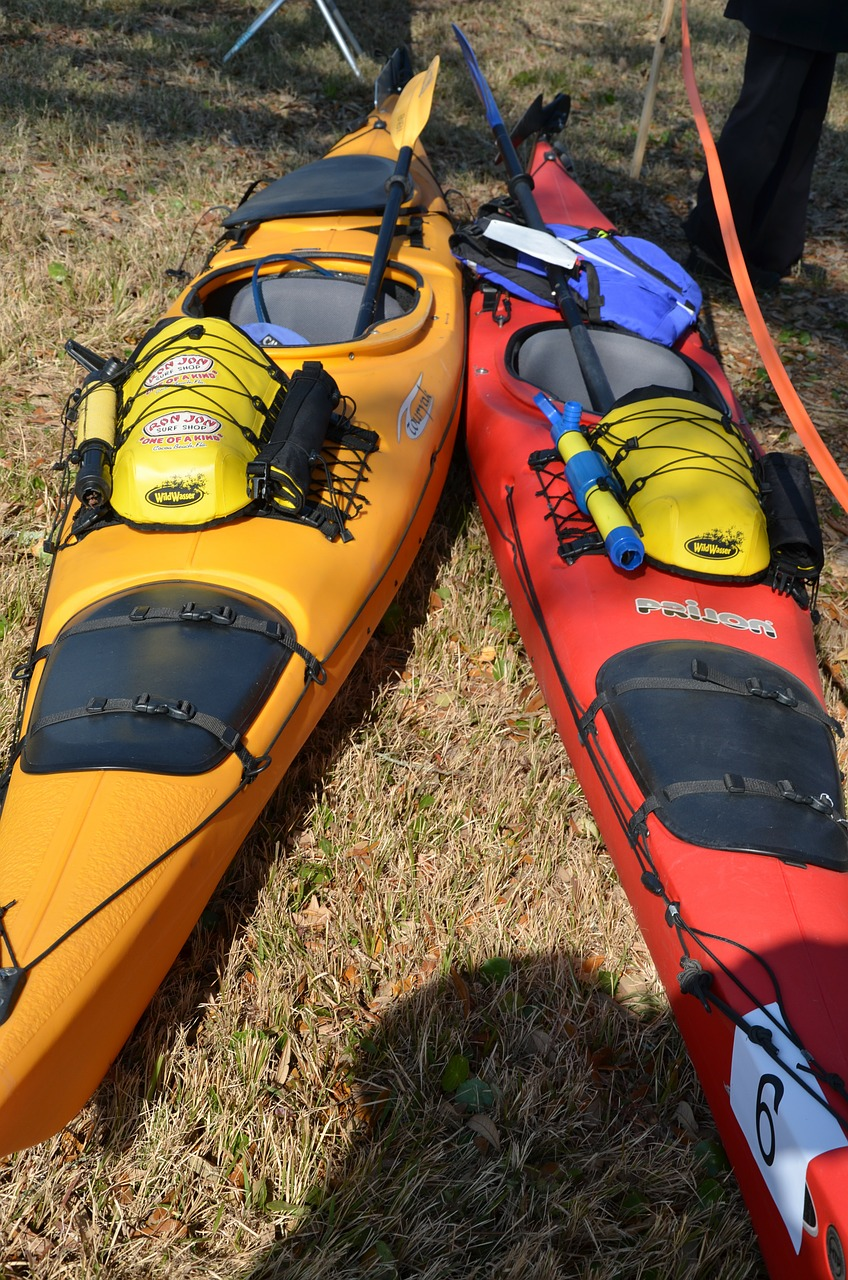kayak: (1, 72, 467, 1151), (465, 108, 847, 1280)
